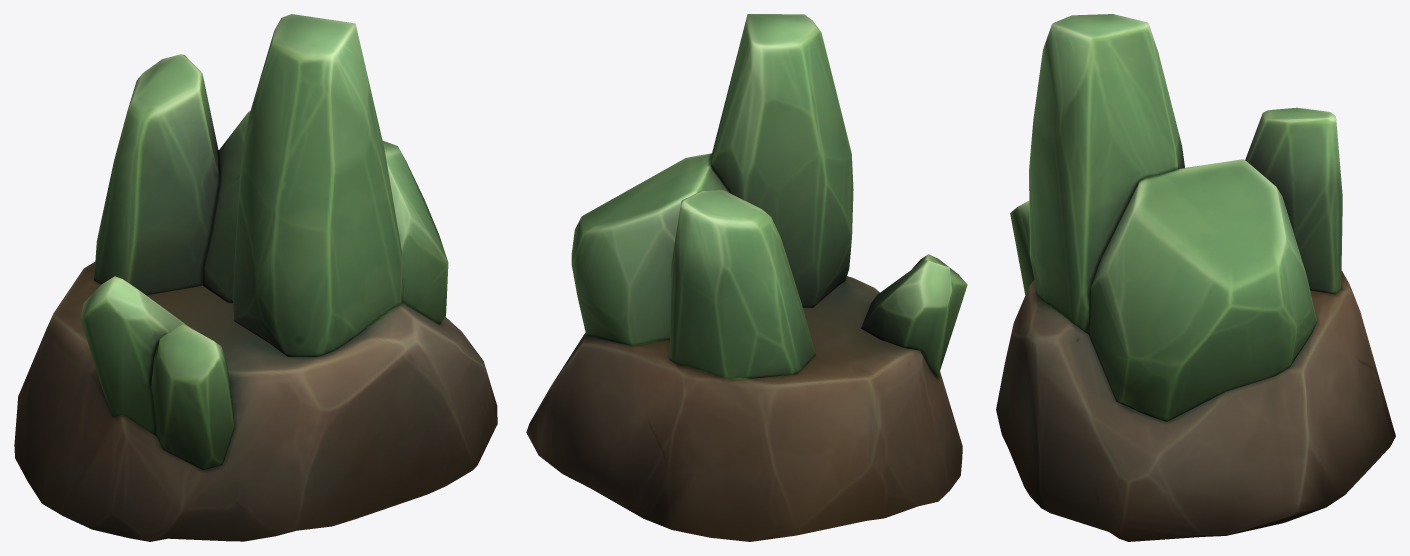
File: SM_Gem_Jade_005.fbx
3 views of the same model, side by side, from view 1: azimuth 30°, elevation 25°; view 2: azimuth 150°, elevation 25°; view 3: azimuth 270°, elevation 25° (orthographic). The views are drawn at different scales.
Parts seen in each view (by area): view 1: SM_Gem_Jade_005; view 2: SM_Gem_Jade_005; view 3: SM_Gem_Jade_005.
Boxes of the visible parts, x1,y1,x2,y2 form: SM_Gem_Jade_005: (14,14,497,541); SM_Gem_Jade_005: (526,14,967,541); SM_Gem_Jade_005: (996,14,1395,541).
Size of the model in its own units: 66.54 by 66.6 by 55.92.
